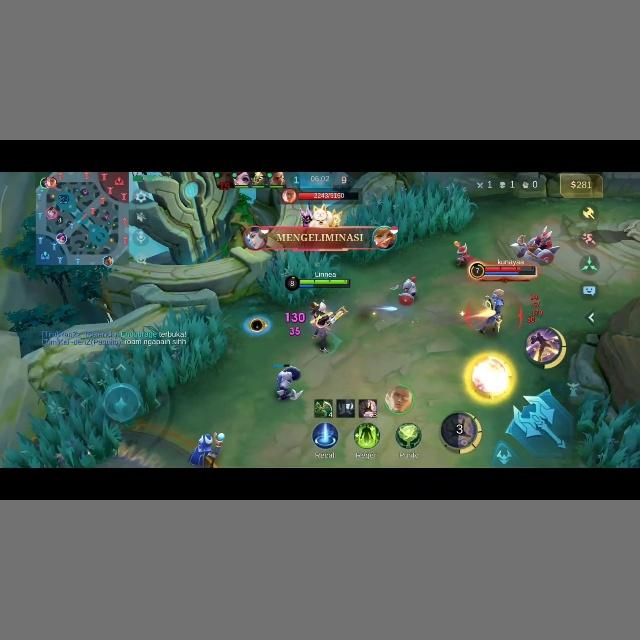hp_enemy: (466, 262, 538, 284), (298, 190, 352, 200)
hp_self: (298, 278, 351, 288)
minion_ally: (188, 421, 228, 463), (274, 364, 301, 400)
minion_enemy: (518, 229, 558, 267), (396, 274, 419, 304), (454, 240, 471, 266)
